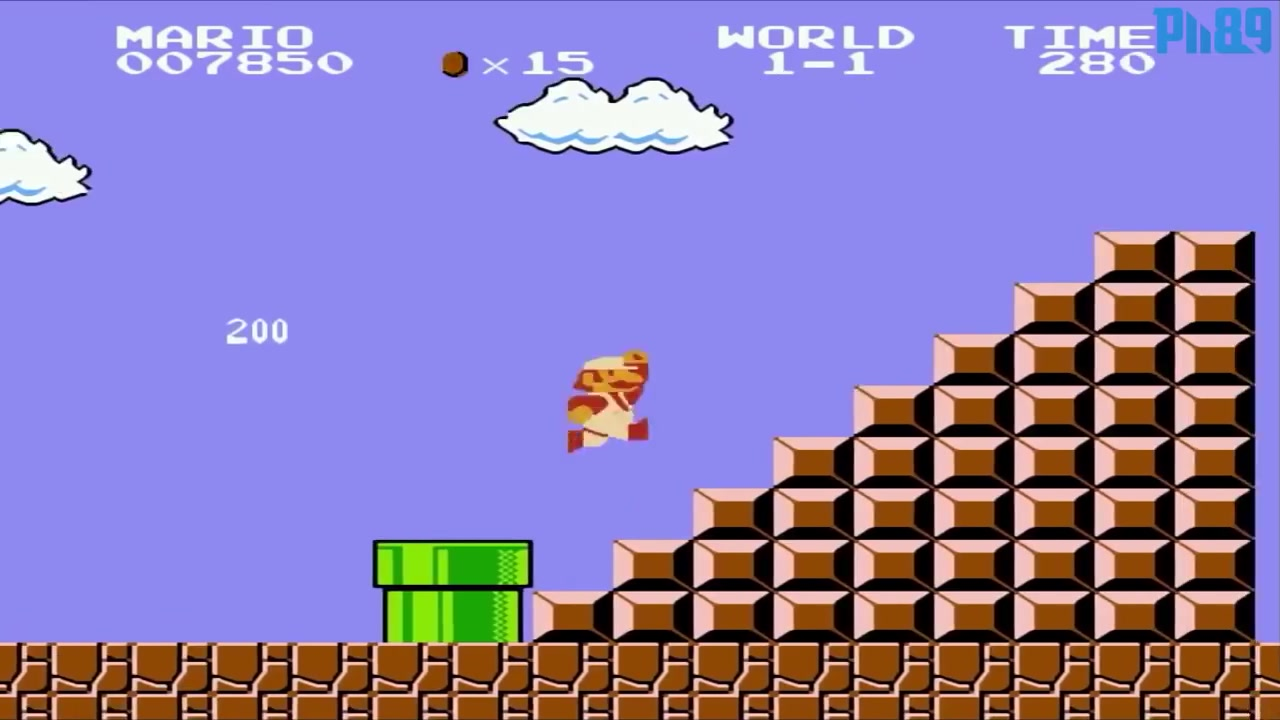mario: (546, 338, 672, 455)
